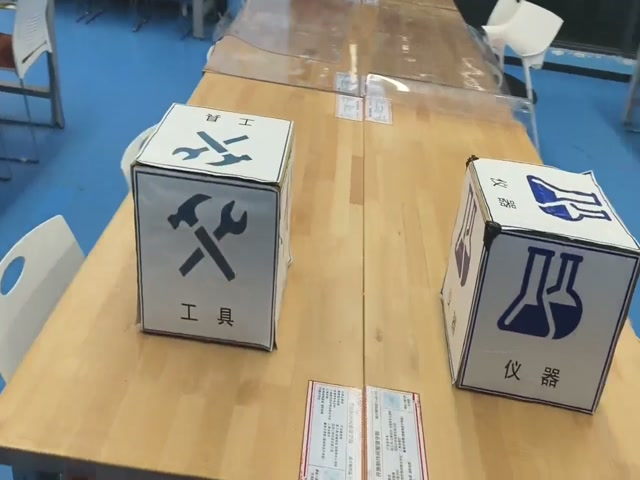Cube_ins: (466, 157, 639, 256)
Cube_tool: (132, 104, 292, 190)
